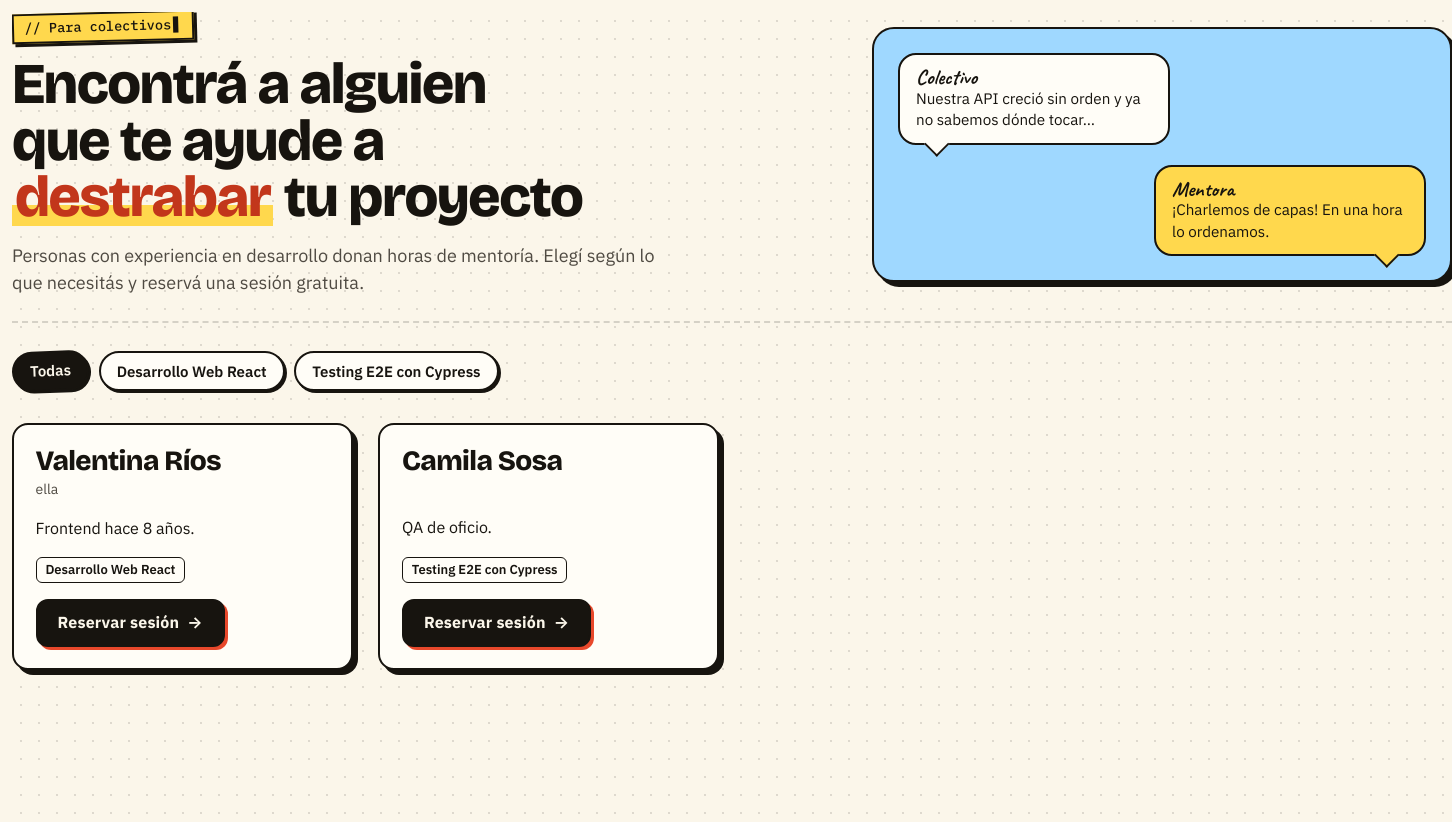
Test: InicioPage › filtra por habilidad
Click the button "Testing E2E con Cypress" at (396,371), box 294,351 -> 499,391
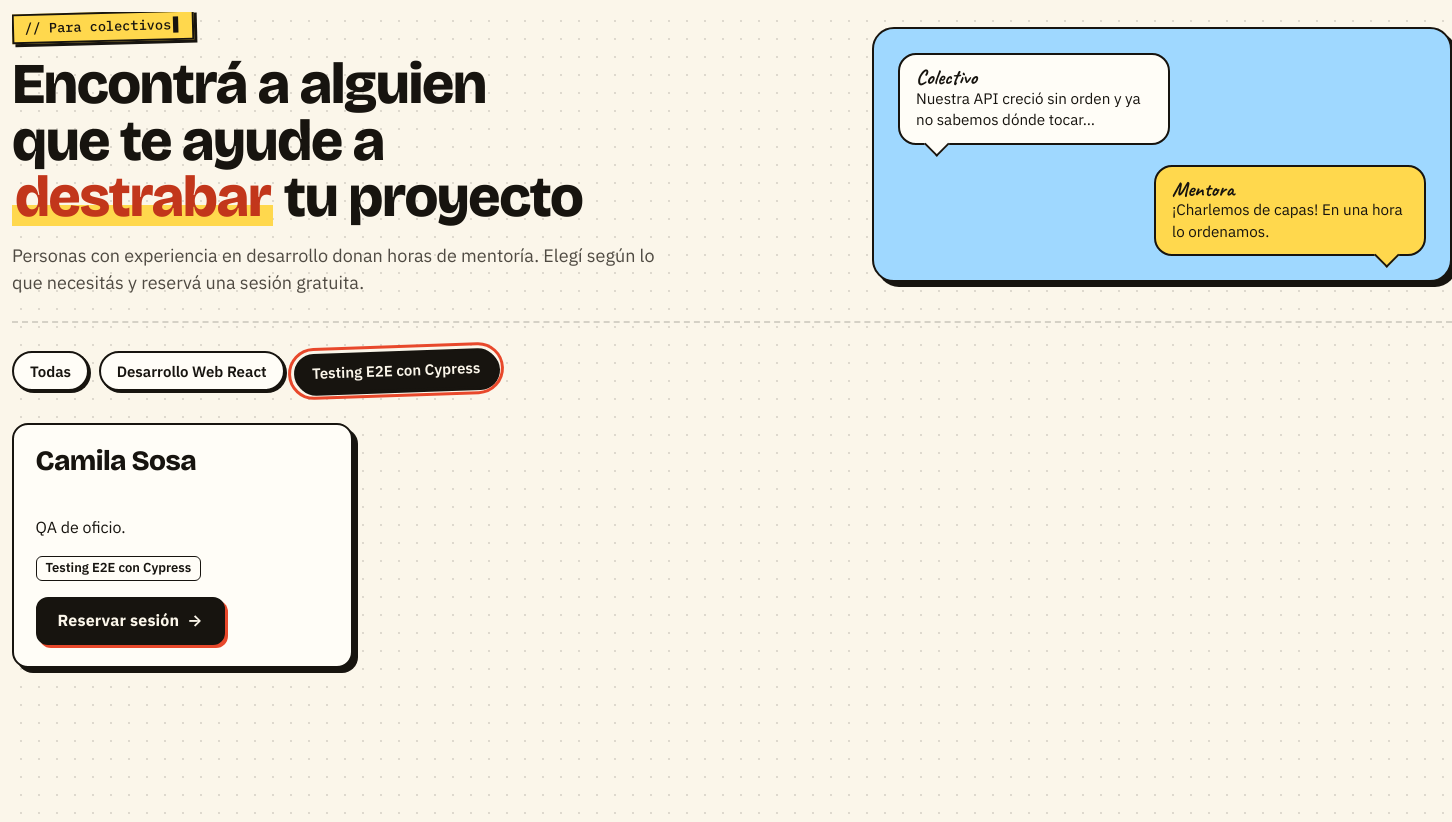
Expected: the button "Testing E2E con Cypress" is shown, 294,348 -> 499,395
Result: the heading "Valentina Ríos" is gone
